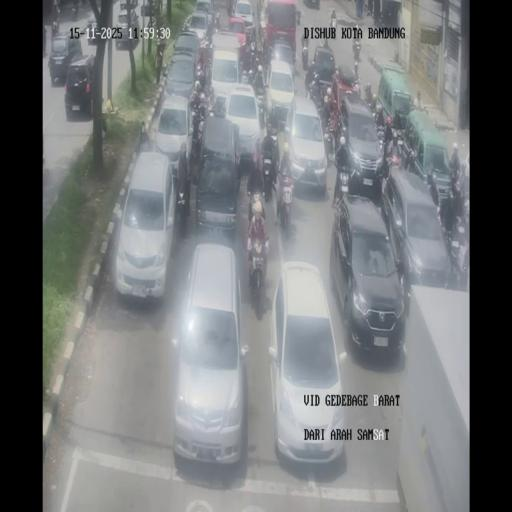car: (171, 244, 247, 466), (268, 264, 345, 467), (114, 151, 175, 302), (383, 168, 453, 294), (338, 94, 384, 195), (284, 95, 327, 197), (153, 93, 194, 182), (222, 83, 262, 168), (266, 60, 296, 130), (164, 48, 199, 106), (210, 29, 244, 86), (305, 44, 337, 104), (48, 33, 83, 85), (115, 8, 141, 52), (184, 10, 210, 42), (233, 0, 254, 34), (82, 13, 97, 42), (196, 0, 212, 16)
motorcycle: (247, 239, 268, 314), (274, 167, 295, 235), (378, 122, 405, 166), (260, 148, 278, 202), (190, 112, 206, 171), (176, 178, 191, 237), (455, 230, 469, 290), (334, 159, 351, 206), (247, 186, 266, 227), (451, 177, 465, 227), (327, 110, 340, 156), (254, 82, 267, 126), (200, 40, 213, 79), (380, 168, 392, 207), (262, 37, 274, 73), (404, 141, 417, 173), (247, 40, 258, 74), (268, 122, 279, 152), (213, 96, 228, 118), (239, 48, 249, 78), (259, 15, 268, 47), (301, 39, 309, 71), (207, 10, 216, 38), (351, 74, 361, 98), (207, 85, 216, 111), (393, 110, 403, 131), (292, 51, 300, 77), (364, 83, 373, 106), (352, 38, 361, 61), (250, 21, 258, 44), (372, 6, 382, 23), (71, 2, 79, 22), (52, 15, 59, 36), (226, 0, 234, 17), (295, 7, 301, 25), (331, 15, 337, 32), (365, 2, 372, 16), (322, 40, 330, 50), (210, 0, 216, 13)
truck: (395, 287, 468, 507), (377, 68, 412, 130)
